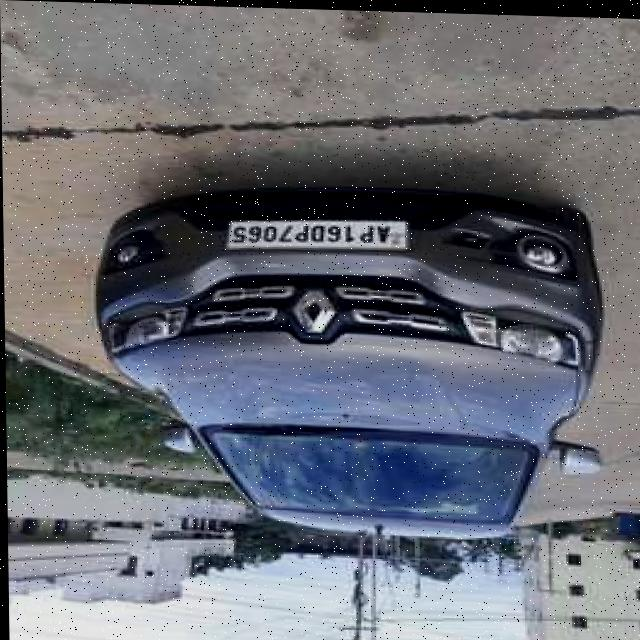plate: (226, 215, 410, 248)
